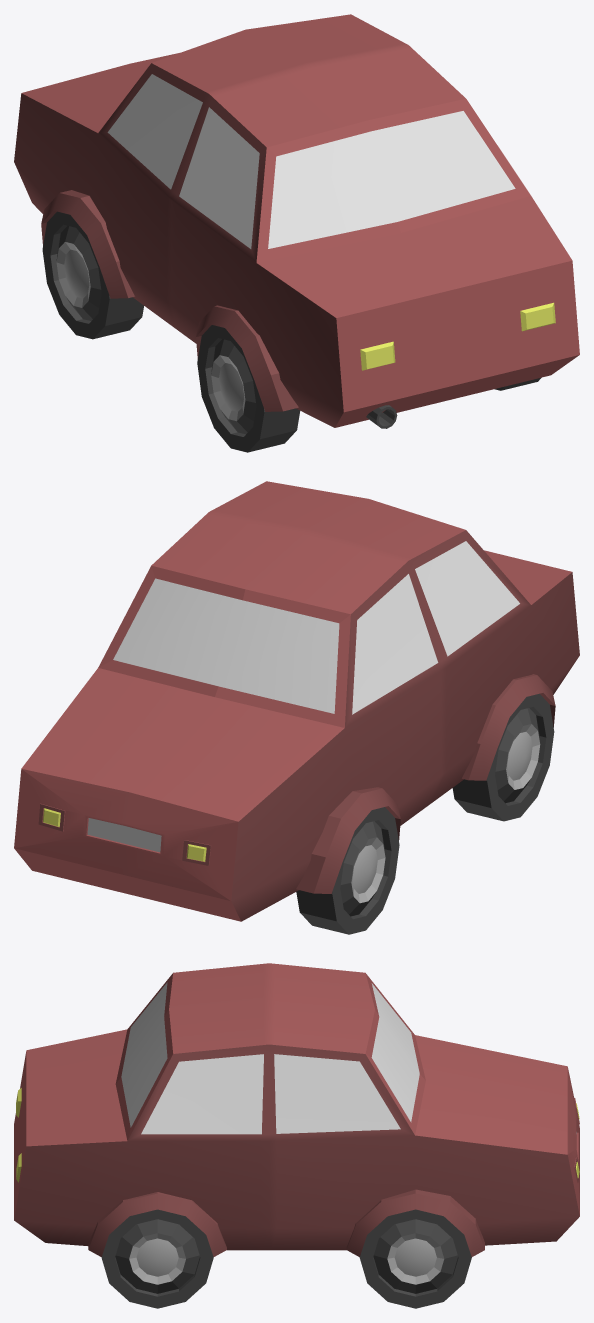
File: Car_Red.fbx
3 views of the same model, one above another, from view 1: azimuth 30°, elevation 25°; view 2: azimuth 150°, elevation 25°; view 3: azimuth 270°, elevation 25° (orthographic). The views are drawn at different scales.
Visible parts, largest first — view 1: polySurface14; view 2: polySurface14; view 3: polySurface14.
Part boxes in pixels (x1,y1,x2,y2): polySurface14: [14, 14, 579, 452]; polySurface14: [14, 481, 579, 934]; polySurface14: [14, 963, 579, 1308].
Size of the model in its own units: 1.51 by 1.43 by 2.94.
